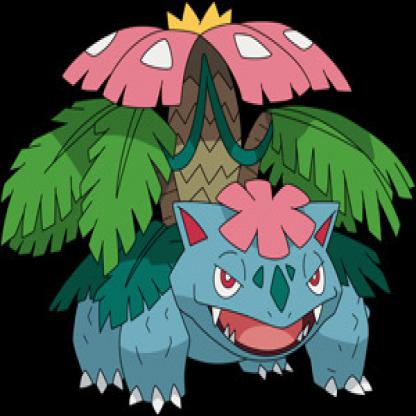Venusaur: (1, 1, 416, 415)
